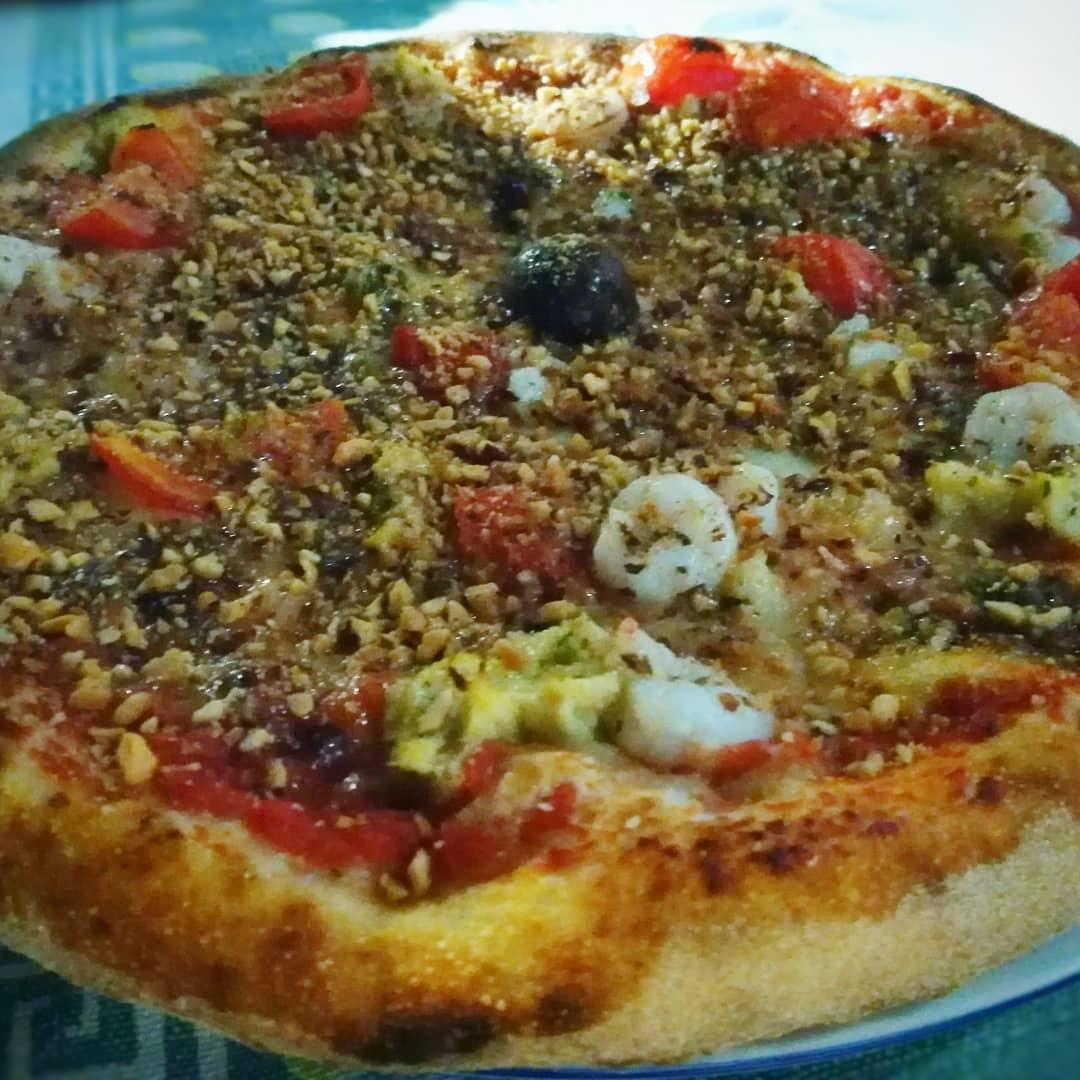Olives: (501, 231, 643, 352)
Pizza: (1, 28, 1080, 1080)
Tomatoes: (154, 728, 416, 867), (444, 478, 572, 583), (68, 421, 219, 505), (761, 221, 894, 314), (61, 184, 185, 263), (751, 61, 847, 145), (248, 64, 378, 121), (654, 31, 734, 110), (378, 328, 492, 383), (114, 121, 201, 192), (874, 78, 951, 145), (258, 408, 343, 465), (1038, 271, 1080, 378)
